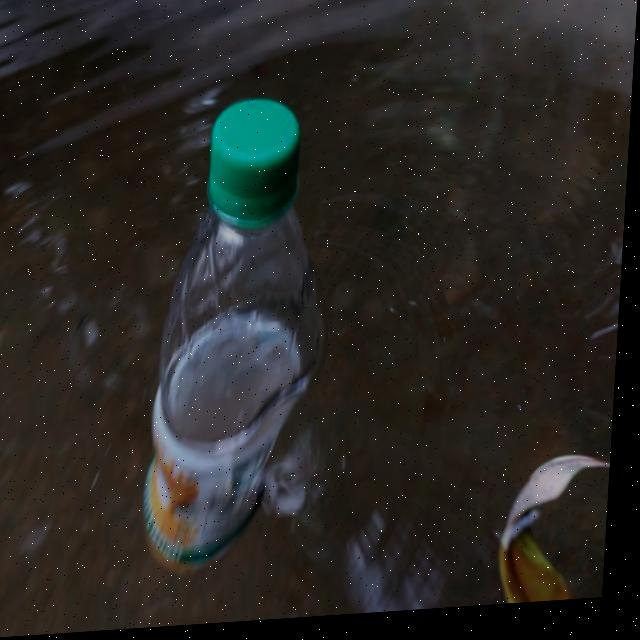leaf: (489, 433, 618, 613)
waterbottle: (151, 84, 340, 559)
